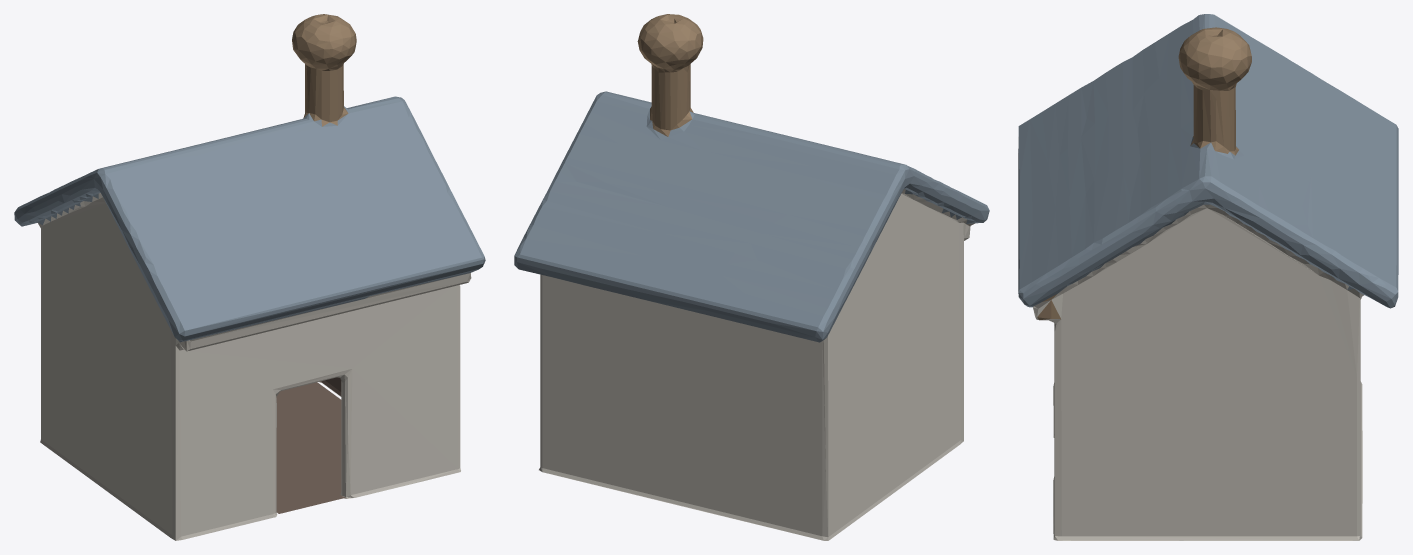
3 views of the same model, side by side, from view 1: azimuth 30°, elevation 25°; view 2: azimuth 150°, elevation 25°; view 3: azimuth 270°, elevation 25° (orthographic). The views are drawn at different scales.
Visible parts, largest first — view 1: geometry_0; view 2: geometry_0; view 3: geometry_0.
Boxes of the visible parts, x1=… form: geometry_0: x1=14, y1=14, x2=485, y2=540; geometry_0: x1=514, y1=14, x2=989, y2=540; geometry_0: x1=1018, y1=14, x2=1398, y2=540.
Bounding box in the file's own units: 0.7171 × 0.9253 × 0.6772.
